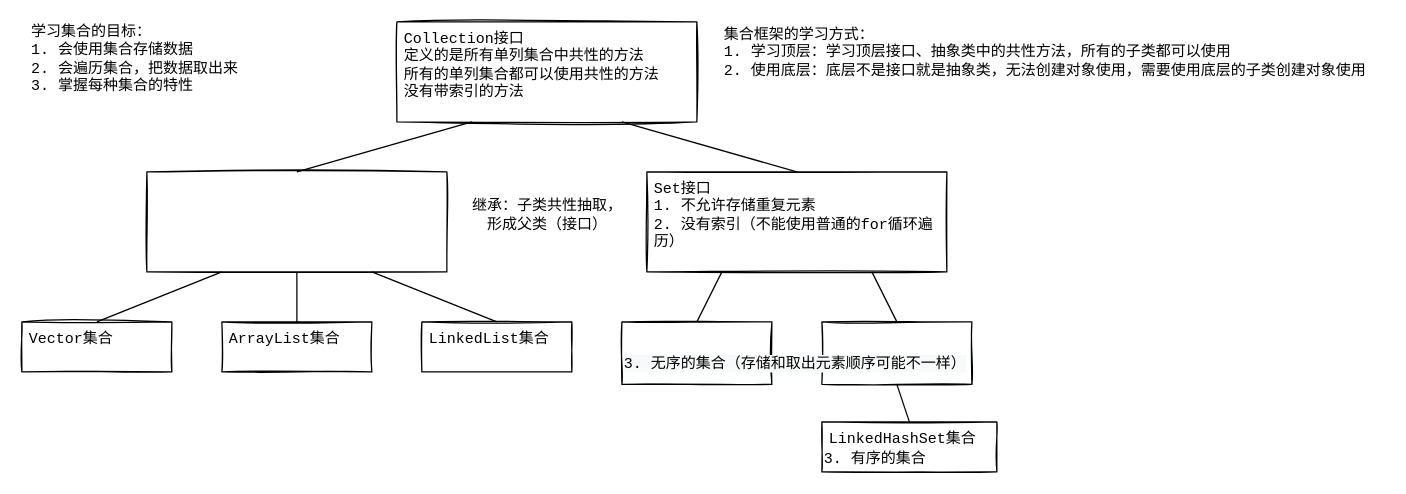
The diagram is 1406 pixels wide and 494 high, and some of its shapes have lost their labels. Each missing label, with the centre of its shape:
"HashSet集合" goes at pixel 896 352.
"List接口 1. 有序的集合（存储和取出元素顺序相同） 2. 运行存储重复的元素 3. 有索引，可以使用普通的for循环遍历" goes at pixel 296 221.
"TreeSet集合" goes at pixel 696 352.
